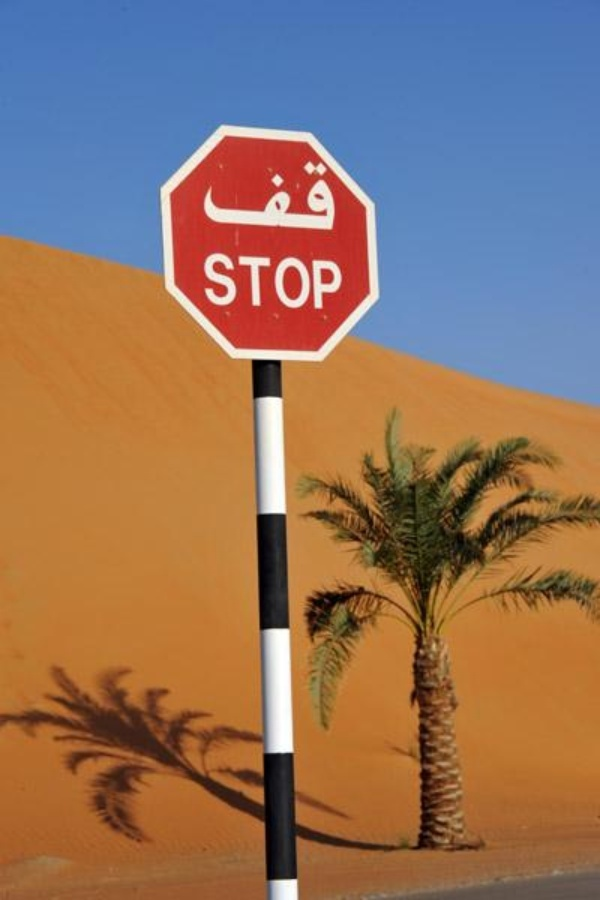text: (321, 154, 337, 235), (209, 154, 224, 235), (225, 154, 240, 235), (241, 154, 256, 235), (257, 154, 272, 235), (273, 154, 288, 235), (289, 154, 304, 235), (305, 154, 320, 235), (209, 250, 224, 313), (225, 250, 240, 313), (241, 250, 256, 313), (257, 250, 272, 313), (273, 250, 288, 313), (289, 250, 304, 313), (305, 250, 320, 313), (321, 250, 336, 313), (337, 250, 344, 313), (202, 250, 208, 313)
